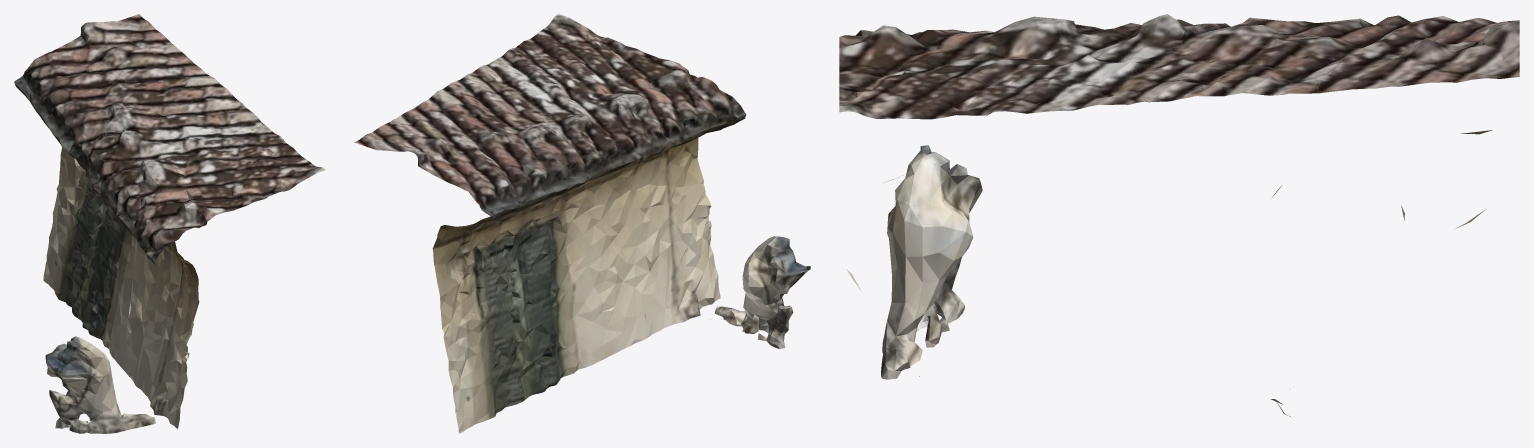
3 renders of one model, left to right at view 1: azimuth 30°, elevation 25°; view 2: azimuth 150°, elevation 25°; view 3: azimuth 270°, elevation 25°, orthographic. The views are drawn at different scales.
Size of the model in its own units: 2.59 by 2.44 by 3.35.
Materials: 3 (3 with a texture image).
